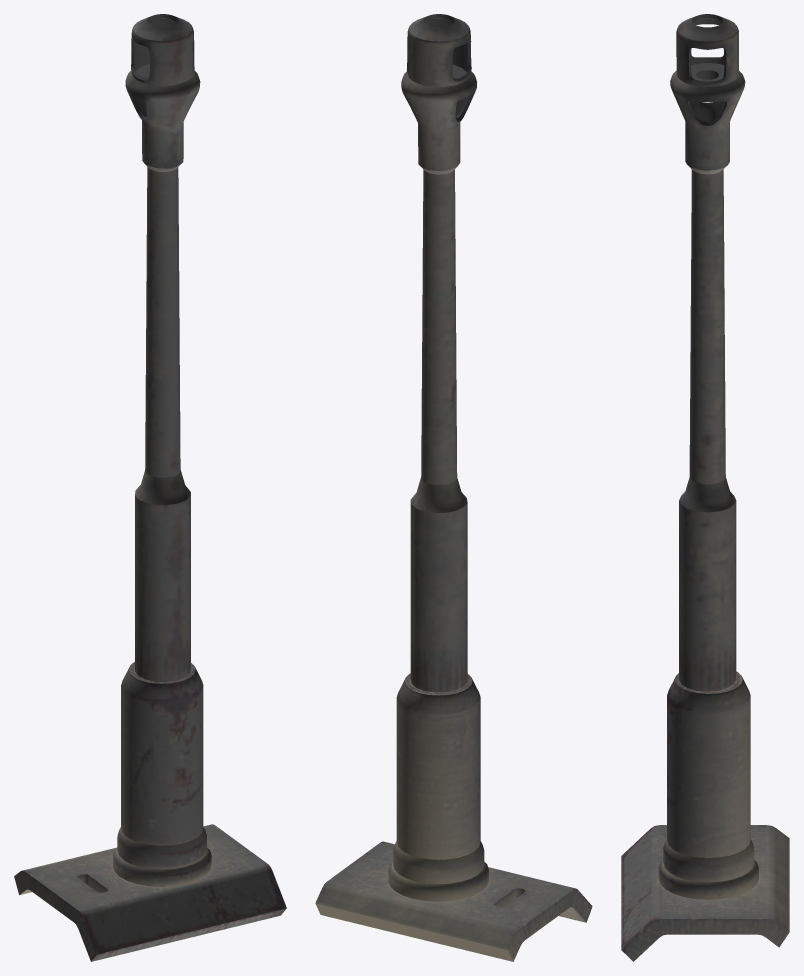
Rendered from Gun_05.glb.
The picture shows the model from 3 angles, left to right: view 1: azimuth 30°, elevation 25°; view 2: azimuth 150°, elevation 25°; view 3: azimuth 270°, elevation 25°; orthographic projection.
Visible parts, largest first — view 1: set_0_group_0; view 2: set_0_group_0; view 3: set_0_group_0.
Boxes of the visible parts, x1=… form: set_0_group_0: x1=14, y1=14, x2=286, y2=961; set_0_group_0: x1=315, y1=14, x2=592, y2=961; set_0_group_0: x1=621, y1=14, x2=789, y2=961.
Size of the model in its own units: 0.8832 by 3.95 by 0.6689.
Materials: 1 (1 with a texture image).
